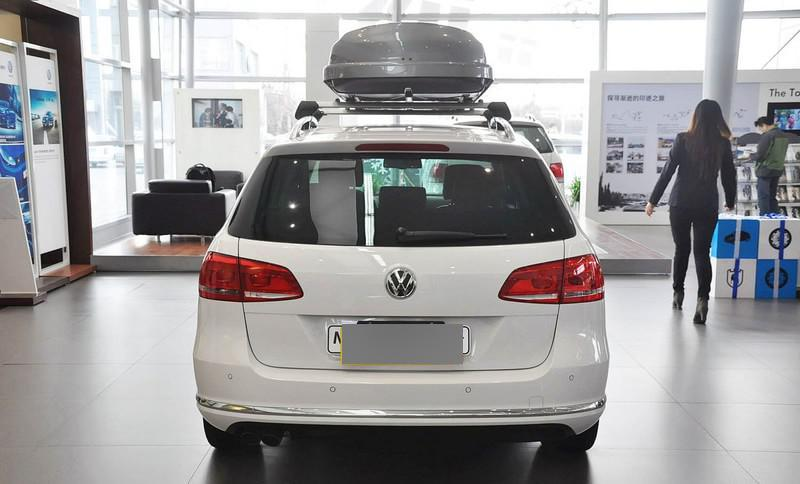Wagon: (191, 19, 611, 454)
